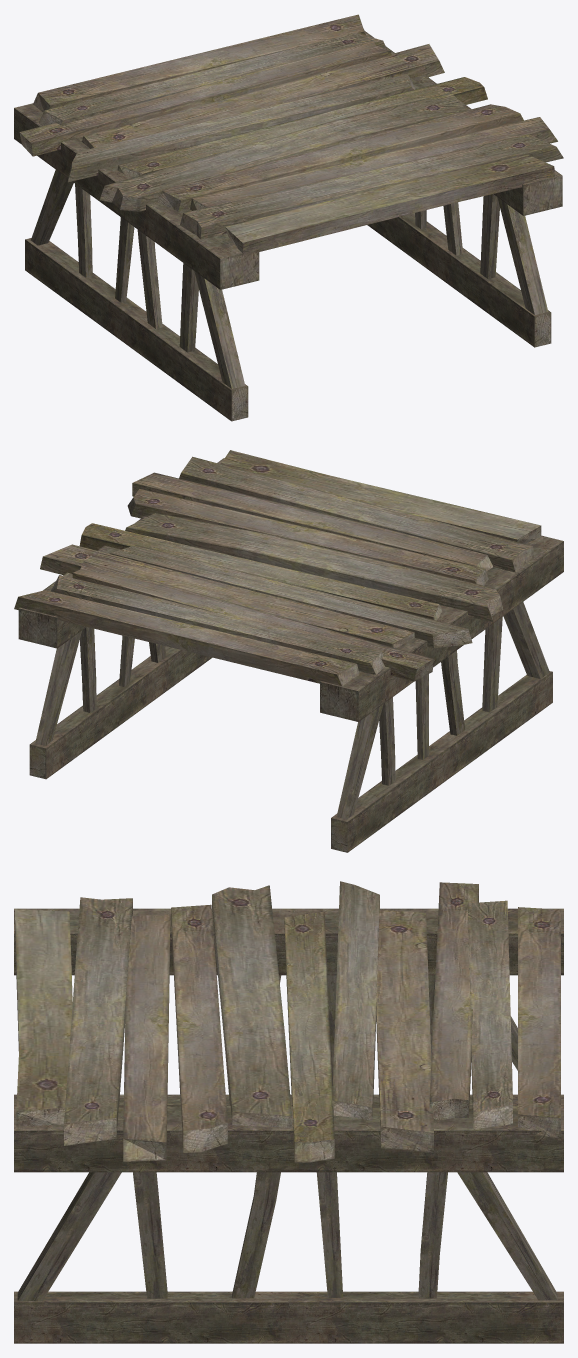
The model's file is bg_lut_common_fishery01a_sm_bjh.FBX.
3 views of the same model, one above another, from view 1: azimuth 30°, elevation 25°; view 2: azimuth 150°, elevation 25°; view 3: azimuth 270°, elevation 25° (orthographic). The views are drawn at different scales.
Visible parts, largest first — view 1: bg_lut_common_fishery01a_sm_bjh; view 2: bg_lut_common_fishery01a_sm_bjh; view 3: bg_lut_common_fishery01a_sm_bjh.
Part boxes in pixels (x1,y1,x2,y2): bg_lut_common_fishery01a_sm_bjh: (14, 14, 563, 421); bg_lut_common_fishery01a_sm_bjh: (14, 450, 563, 852); bg_lut_common_fishery01a_sm_bjh: (14, 881, 563, 1343).
Bounding box in the file's own units: 330 × 138 × 288.
